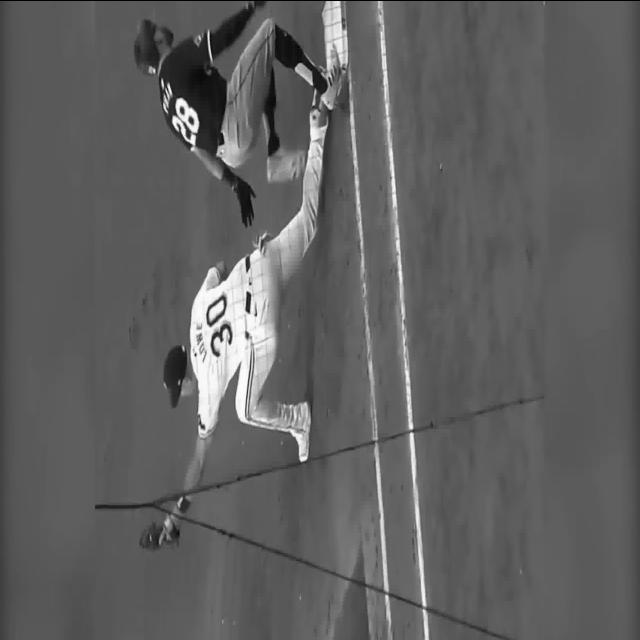base: (322, 0, 349, 71)
baseball_glove: (140, 522, 162, 551), (168, 529, 179, 544)
shoe: (266, 144, 308, 182), (321, 44, 341, 109), (295, 400, 311, 462), (310, 89, 329, 137)
